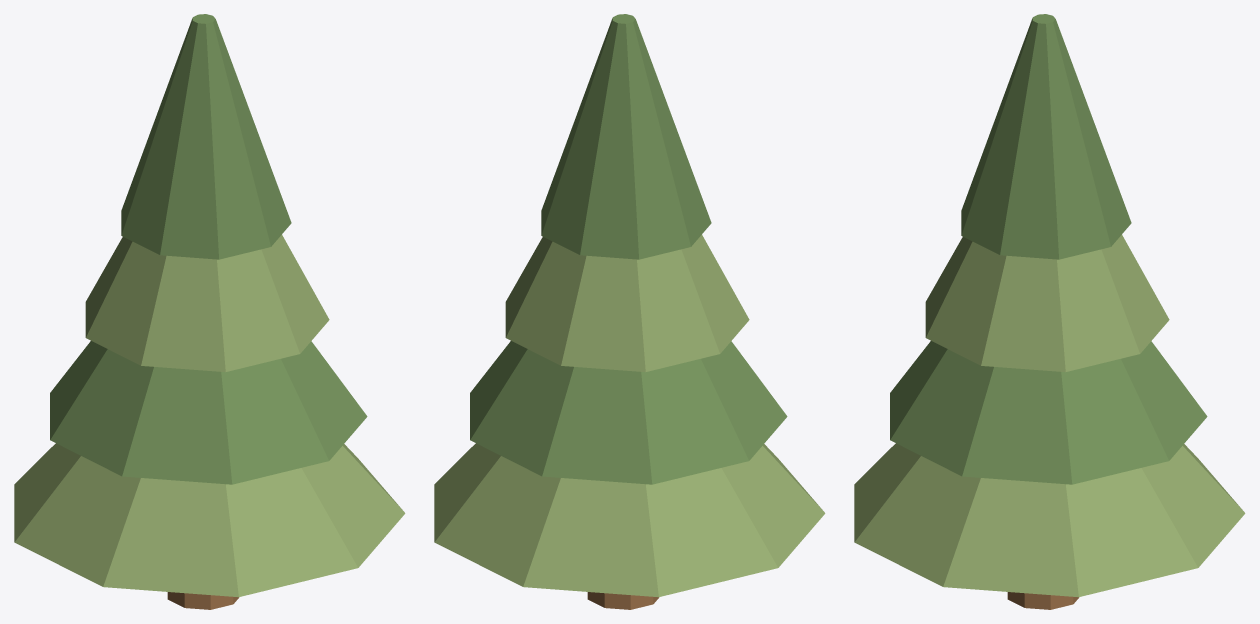
Rendered from tree-pine.glb.
3 renders of one model, left to right at view 1: azimuth 30°, elevation 25°; view 2: azimuth 150°, elevation 25°; view 3: azimuth 270°, elevation 25°, orthographic.
Parts seen in each view (by area): view 1: Mesh_tree-pine_leafLight, Mesh_tree-pine_leaf, Pine trunk; view 2: Mesh_tree-pine_leafLight, Mesh_tree-pine_leaf, Pine trunk; view 3: Mesh_tree-pine_leafLight, Mesh_tree-pine_leaf, Pine trunk.
Part boxes in pixels (<box>): Mesh_tree-pine_leafLight: <box>14,235,405,597</box>; Mesh_tree-pine_leaf: <box>50,14,367,484</box>; Pine trunk: <box>167,592,239,609</box>; Mesh_tree-pine_leafLight: <box>434,235,825,597</box>; Mesh_tree-pine_leaf: <box>470,14,787,484</box>; Pine trunk: <box>587,592,659,609</box>; Mesh_tree-pine_leafLight: <box>854,235,1245,597</box>; Mesh_tree-pine_leaf: <box>890,14,1207,484</box>; Pine trunk: <box>1007,592,1079,609</box>.
Bounding box in the file's own units: 0.6697 × 1.07 × 0.6595.
